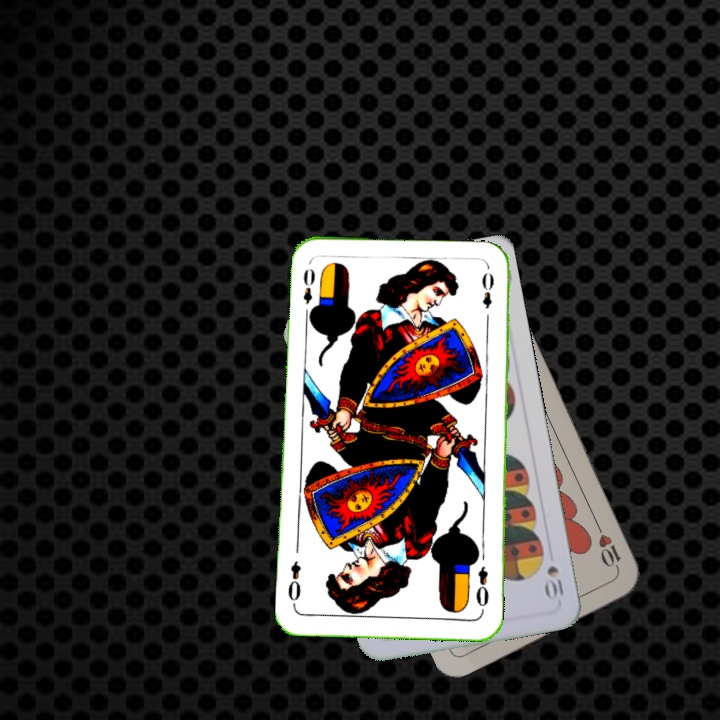EO: (472, 562, 491, 615), (299, 264, 318, 307)
H10: (592, 520, 624, 576)
S10: (541, 561, 567, 604)
